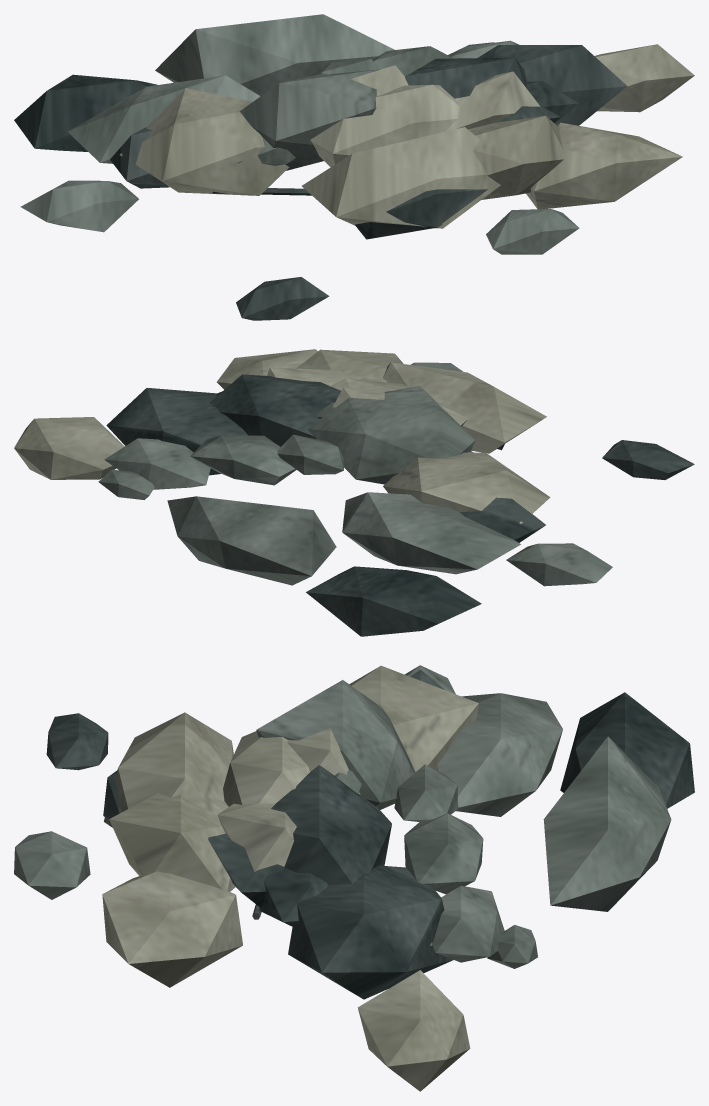
Rendered from 0105_scree_pile_05.glb.
3 renders of one model, top to bottom at view 1: azimuth 30°, elevation 25°; view 2: azimuth 150°, elevation 25°; view 3: azimuth 270°, elevation 25°, orthographic. The views are drawn at different scales.
Visible parts, largest first — view 1: stone_light, stone, stone_dark; view 2: stone, stone_dark, stone_light; view 3: stone_light, stone, stone_dark.
Part boxes in pixels (<box>): stone_light: <box>119,44,694,228</box>; stone: <box>20,14,579,254</box>; stone_dark: <box>14,45,627,320</box>; stone: <box>98,362,612,586</box>; stone_dark: <box>106,374,694,636</box>; stone_light: <box>14,349,550,524</box>; stone_light: <box>102,665,478,1091</box>; stone: <box>14,665,671,968</box>; stone_dark: <box>46,669,694,999</box>.
Size of the model in its own units: 3.3 by 0.6903 by 2.51.
Materials: 4 (4 with a texture image).
